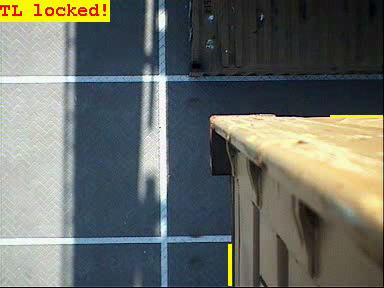groundmarker_2: (130, 72, 193, 120)
